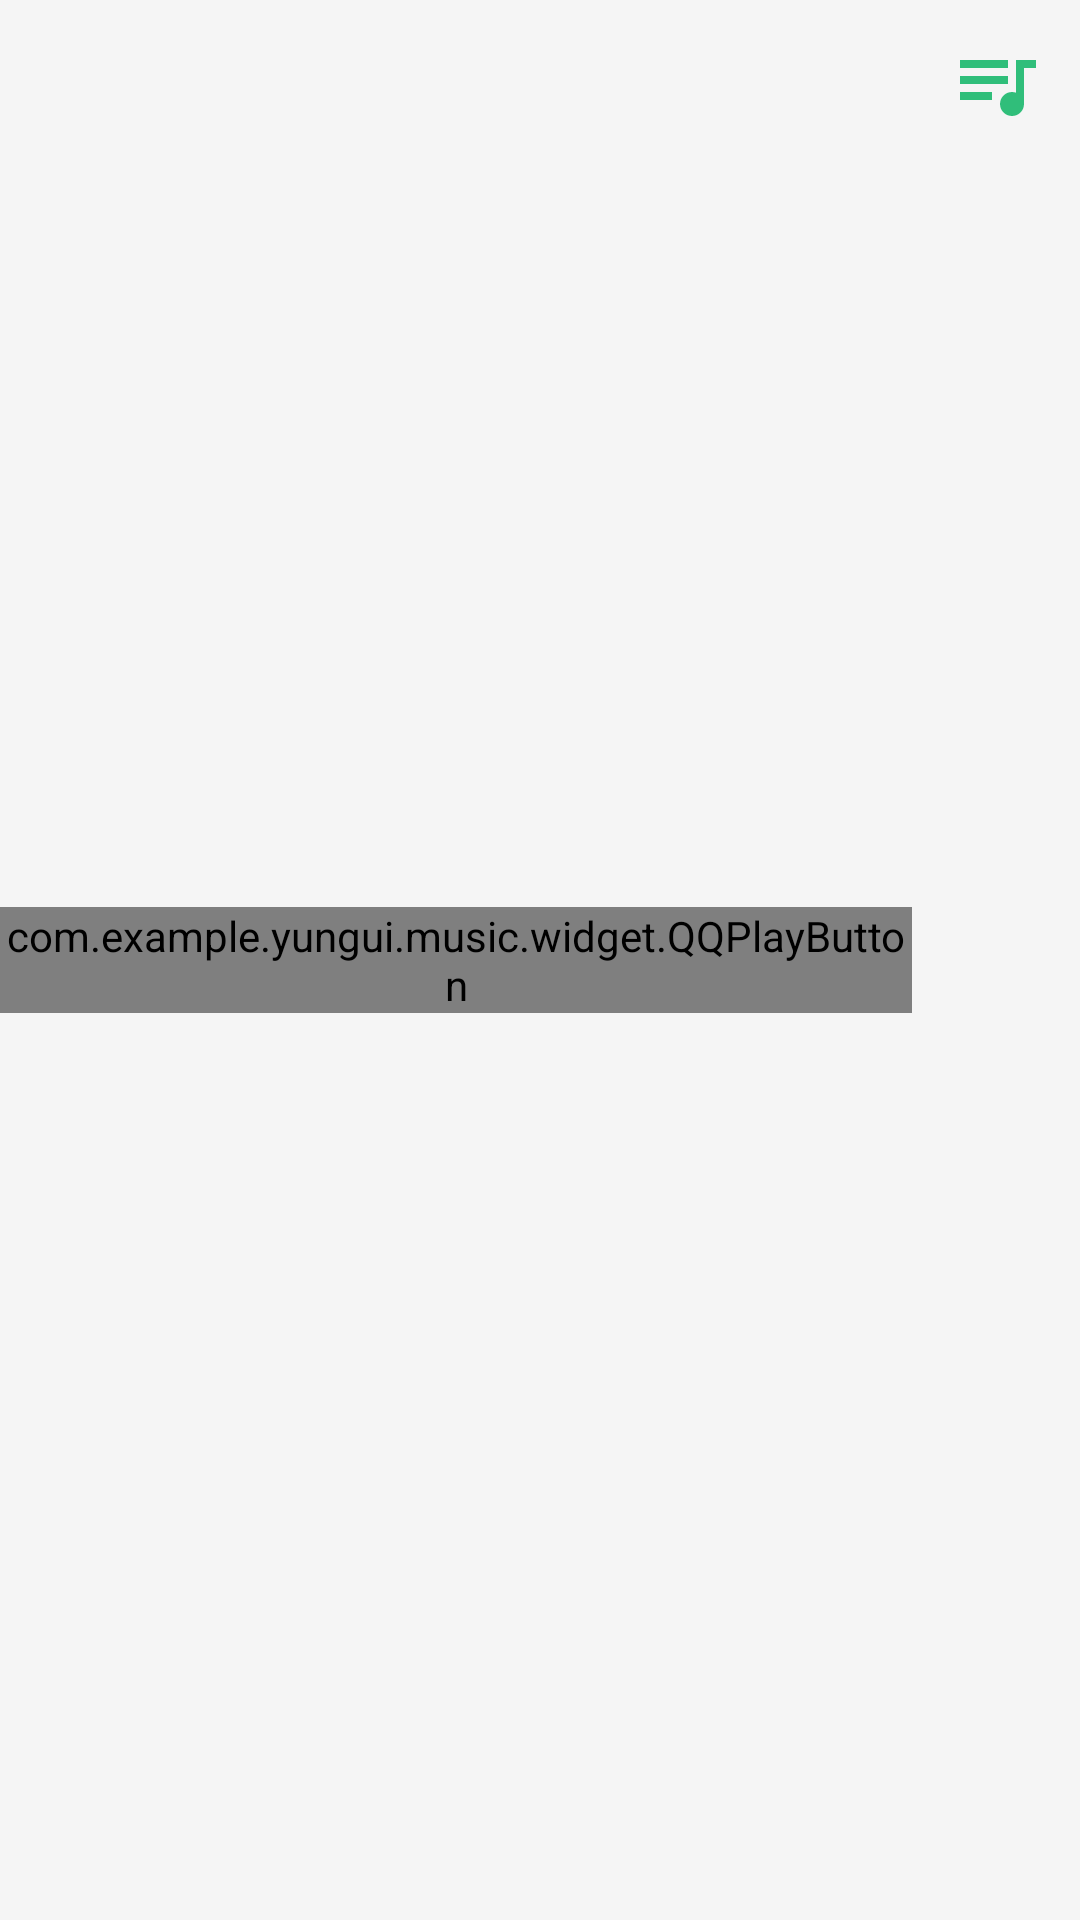

Icons on this 1080px x 1920px Android screen, each with its box as (x1=x1, y1=y1, x2=x2, y2=y2):
bottom bar music queue: (x1=960, y1=60, x2=1036, y2=116)
